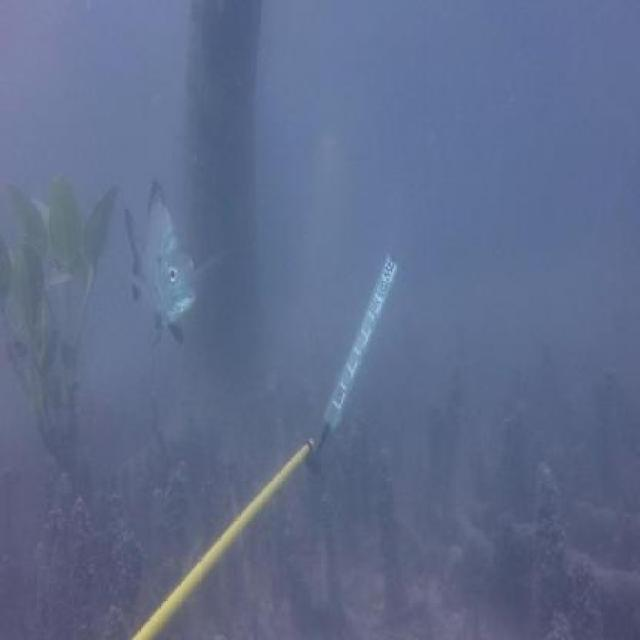acanthopagrus_palmaris: (122, 170, 200, 352)
